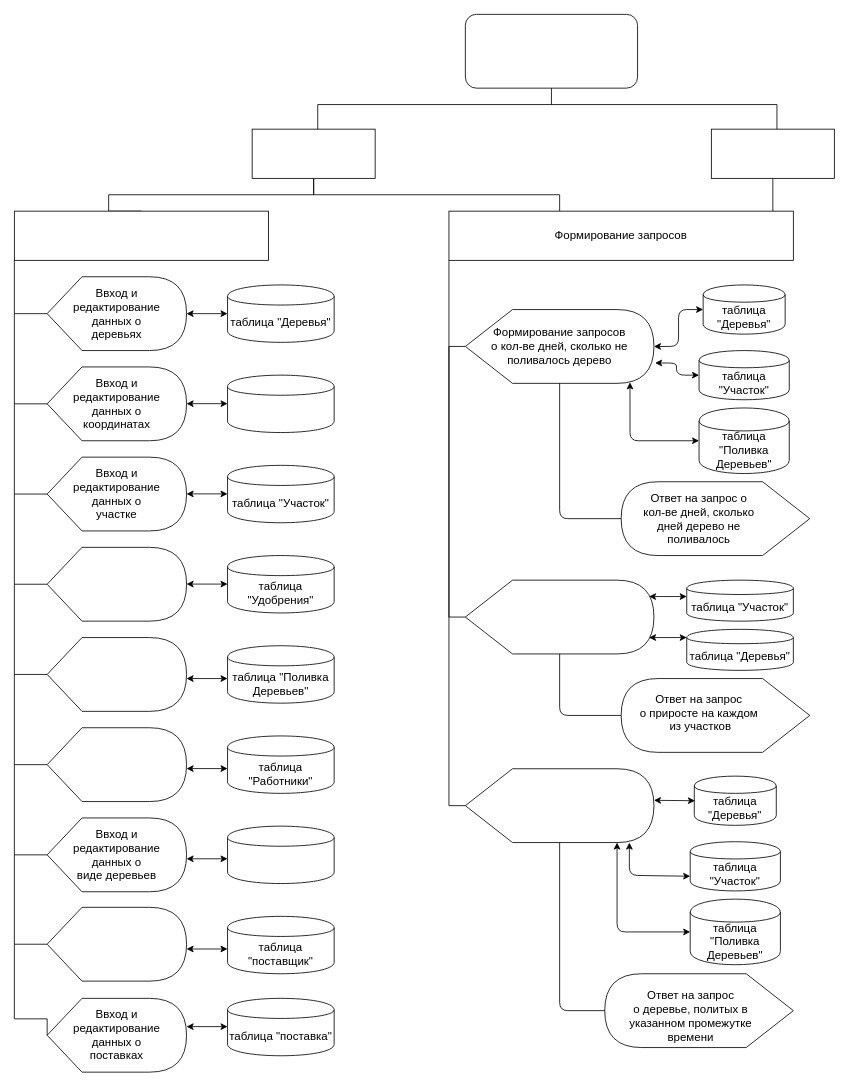
Image size: 849x1087. Some labels were removed from this diagram. The shapes that lost their labels are listed below. From the top down, each one's box as (x1, y1, x2, y2) in pixels, then its label:
(465, 14, 638, 88): АС прирост древисины в лесопитомнике на различных участках
(251, 128, 375, 178): APM Администратор
(711, 128, 834, 178): APM Пользователя
(14, 210, 269, 260): Ввод и редактирование данных
(227, 374, 334, 433): таблица "Координаты"
(46, 547, 187, 621): Ввход и редактирование данных об удобрении
(465, 579, 654, 654): Формирование запросов о приросте на каждом из участков
(46, 637, 187, 711): Ввход и редактирование данных о поливе
(46, 727, 187, 802): Ввход и редактирование данных о работниках
(465, 768, 654, 843): Формирование запросов о деревье, политых в указанном промежутке времени
(227, 825, 334, 884): таблица "вид деревьев"
(46, 907, 187, 981): Ввход и редактирование данных о поставщиках
